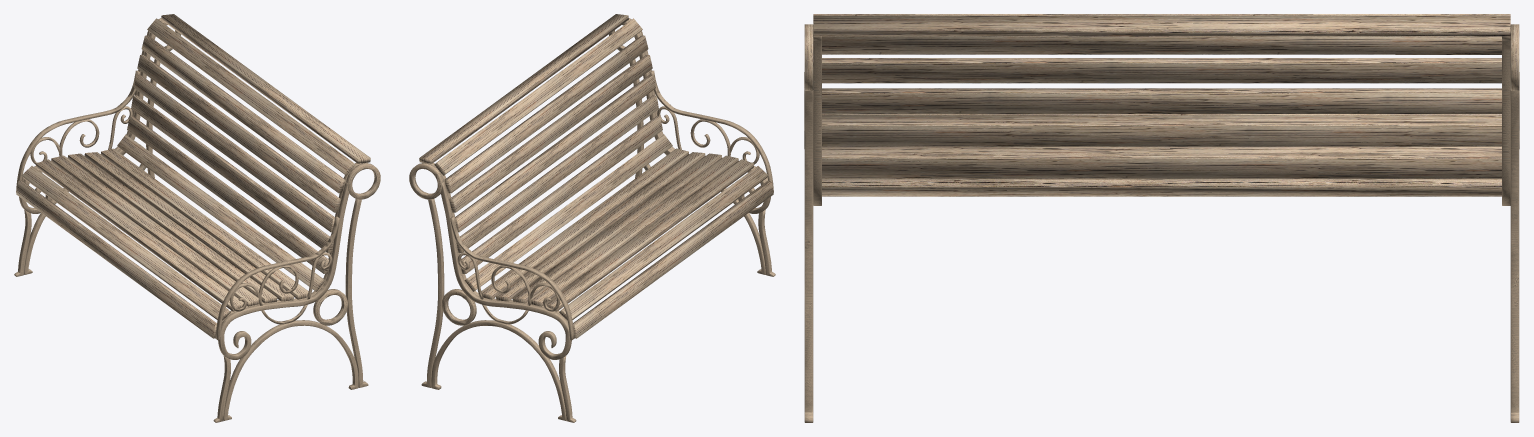
Rendered from bank_optimized.obj.
3 views of the same model, side by side, from view 1: azimuth 30°, elevation 25°; view 2: azimuth 150°, elevation 25°; view 3: azimuth 270°, elevation 25° (orthographic). The views are drawn at different scales.
Parts seen in each view (by area): view 1: Line002, Box013, Box014, Box011, Box006, Box012, Box007, Box010, Box009, Box008, Line003, Box005 (+5 smaller); view 2: Line003, Box013, Box014, Box011, Box006, Box012, Box007, Box010, Box009, Box008, Line002, Box005 (+5 smaller); view 3: Box009, Box011, Box010, Box012, Box015, Box013, Box008, Box003, Line002, Line003, Box005, Box014 (+2 smaller).
Boxes of the visible parts, x1,y1,x2,y2 form: Line002: (213,162,380,422); Box013: (141,35,345,193); Box014: (147,18,355,175); Box011: (137,55,340,212); Box006: (21,166,230,320); Box012: (134,74,334,232); Box007: (16,180,216,338); Box010: (131,95,333,252); Box009: (127,116,328,273); Box008: (117,134,325,291); Line003: (14,18,180,276); Box005: (36,159,243,311); Line003: (409,162,576,422); Box013: (444,35,648,193); Box014: (434,18,642,175); Box011: (449,55,652,212); Box006: (559,166,768,320); Box012: (455,74,655,232); Box007: (573,180,773,338); Box010: (456,95,658,252); Box009: (461,116,662,273); Box008: (464,134,672,291); Line002: (609,18,775,276); Box005: (546,159,753,311); Box009: (822,153,1501,178); Box011: (822,58,1501,83); Box010: (822,121,1501,146); Box012: (822,88,1501,113); Box015: (813,15,1510,36); Box013: (822,36,1501,54); Box008: (822,179,1501,196); Box003: (822,146,1501,153); Line002: (804,24,821,422); Line003: (1502,24,1519,422); Box005: (822,115,1501,120); Box014: (813,14,1510,23).
Size of the model in its own units: 77.68 by 102 by 164.
Materials: 1 (1 with a texture image).
